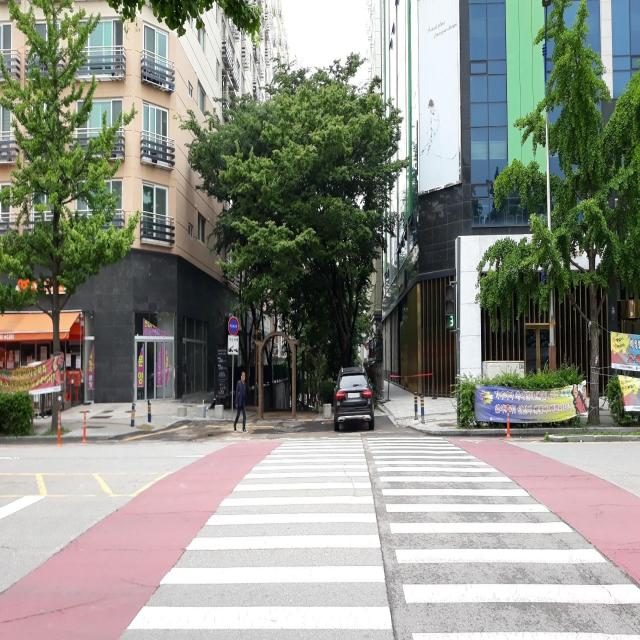초록불: (442, 284, 453, 330)
횡단보도: (124, 430, 640, 640)
